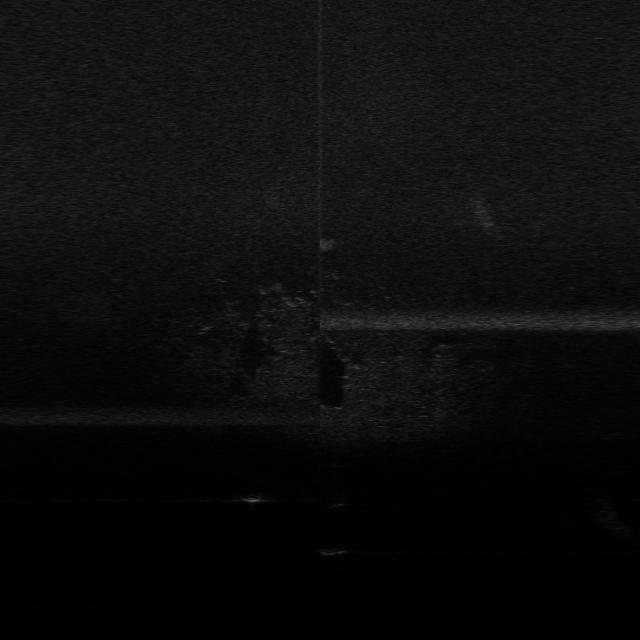cube: (316, 545, 348, 557)
square cage: (237, 489, 266, 504)
